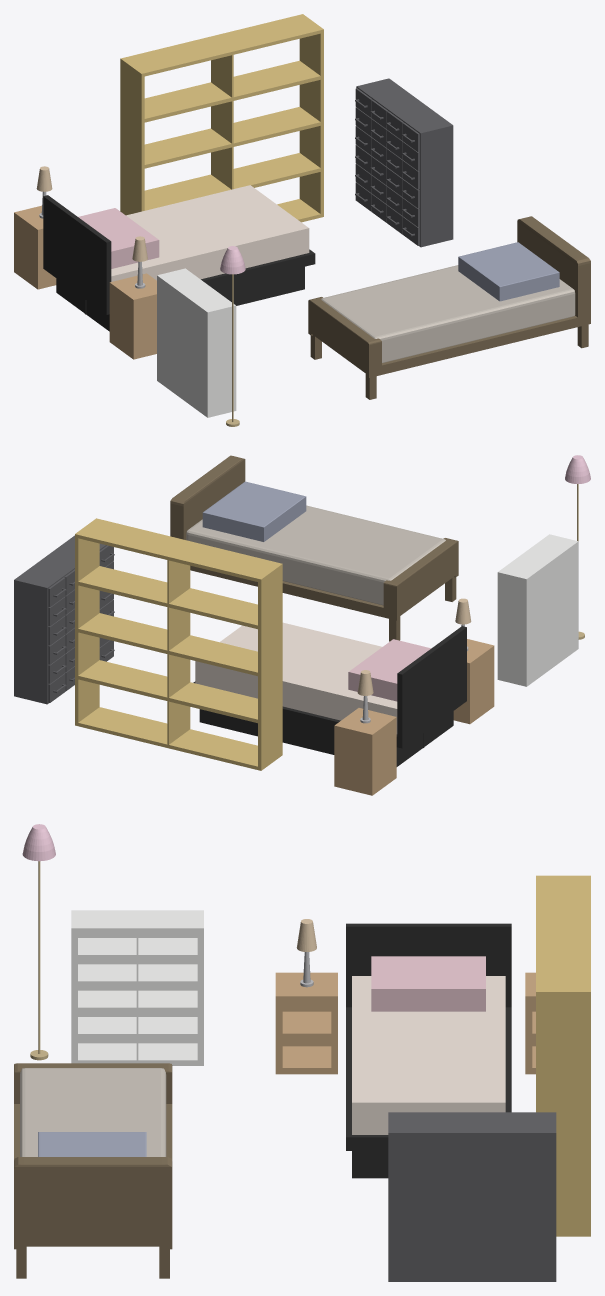
File: agent_scene.glb
3 views of the same model, one above another, from view 1: azimuth 30°, elevation 25°; view 2: azimuth 150°, elevation 25°; view 3: azimuth 270°, elevation 25° (orthographic). The views are drawn at different scales.
Visible parts, largest first — view 1: b2_mattress, b1_mattress, b1_headboard, mr_back, bs_h4, b2_pillow, bs_h3, bs_h2, cab_sideS, bs_sideW, bs_sideE, bs_h1 (+16 smaller); view 2: b2_mattress, b1_mattress, b1_headboard, mr_back, bs_sideW, bs_h4, b2_pillow, cab_sideN, bs_h3, bs_h1, bs_h2, bs_h0 (+18 smaller); view 3: cab_back, b1_mattress, b2_hb, bs_sideE, b2_mattress, b1_headboard, b1_pillow, bs_h4, cab_h6, mr_back, mr_h5, mr_h2 (+20 smaller).
Boxes of the visible parts, x1,y1,x2,y2 form: b2_mattress: (321, 265, 575, 362); b1_mattress: (111, 185, 309, 281); b1_headboard: (43, 195, 111, 314); mr_back: (159, 277, 206, 415); bs_h4: (124, 15, 320, 76); b2_pillow: (458, 242, 559, 301); bs_h3: (144, 60, 320, 122); bs_h2: (144, 107, 320, 168); cab_sideS: (419, 125, 453, 247); bs_sideW: (120, 57, 144, 215); bs_sideE: (299, 14, 323, 217); bs_h1: (144, 153, 320, 210); b2_mattress: (186, 505, 445, 605); b1_mattress: (195, 622, 397, 733); b1_headboard: (397, 626, 466, 748); mr_back: (528, 543, 575, 684); bs_sideW: (258, 563, 282, 770); bs_h4: (78, 519, 278, 581); b2_pillow: (202, 481, 306, 541); cab_sideN: (14, 579, 48, 704); bs_h3: (78, 566, 257, 629); bs_h1: (78, 660, 257, 723); bs_h2: (78, 613, 257, 676); bs_h0: (78, 707, 257, 769); cab_back: (388, 1132, 556, 1281); b1_mattress: (352, 976, 505, 1134); b2_hb: (14, 1157, 172, 1246); bs_sideE: (536, 990, 590, 1236); b2_mattress: (20, 1068, 166, 1156); b1_headboard: (346, 923, 511, 1007); b1_pillow: (371, 956, 485, 1011); bs_h4: (536, 878, 590, 989); cab_h6: (392, 1112, 552, 1131); mr_back: (78, 910, 197, 1043); mr_h5: (78, 911, 197, 933); mr_h2: (78, 990, 197, 1012).
Bounding box in the file's own units: 3.67 × 1.79 × 3.83.
